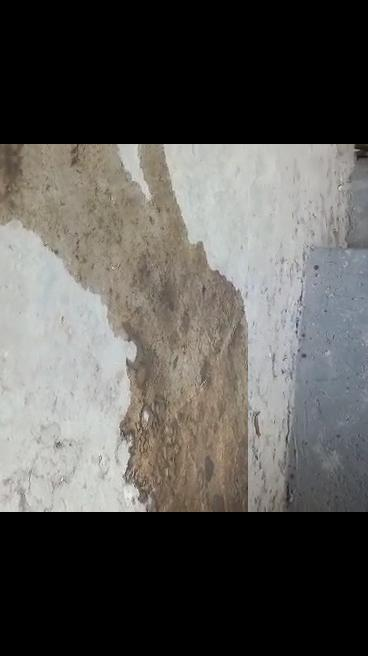water accumulation: (0, 144, 246, 512)
